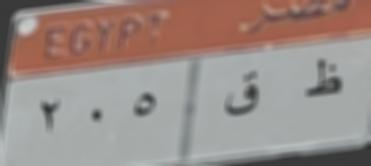0: (82, 95, 106, 132)
2: (36, 94, 66, 138)
5: (127, 89, 164, 119)
Thaa: (302, 57, 344, 108)
qaaf: (220, 68, 262, 123)
